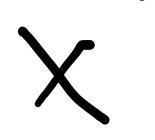mult: (18, 25, 110, 125)
